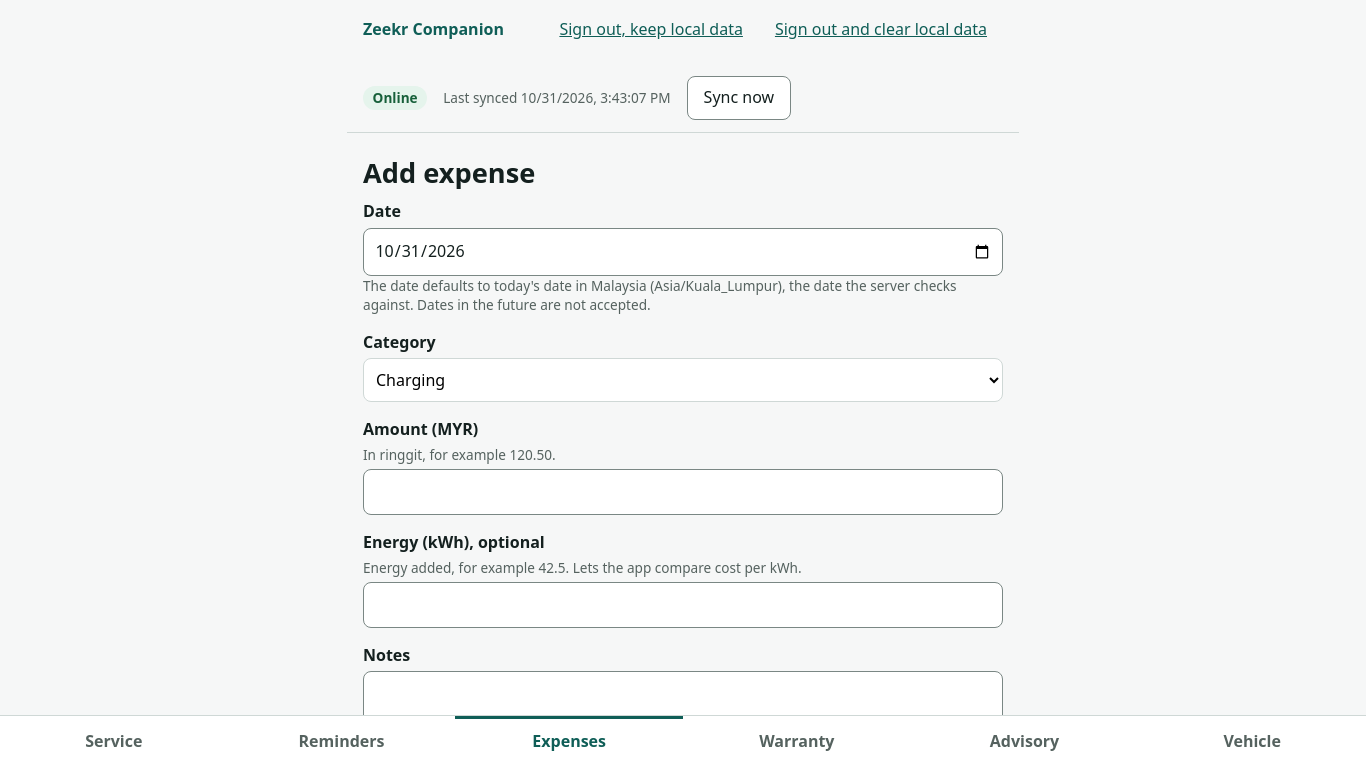
Scenario: QA save behaviour › a future date typed in the form is refused and nothing is queued
Type "2026-11-01" into the date field labelled "Date" at (683, 252), box [363,228,1003,276]
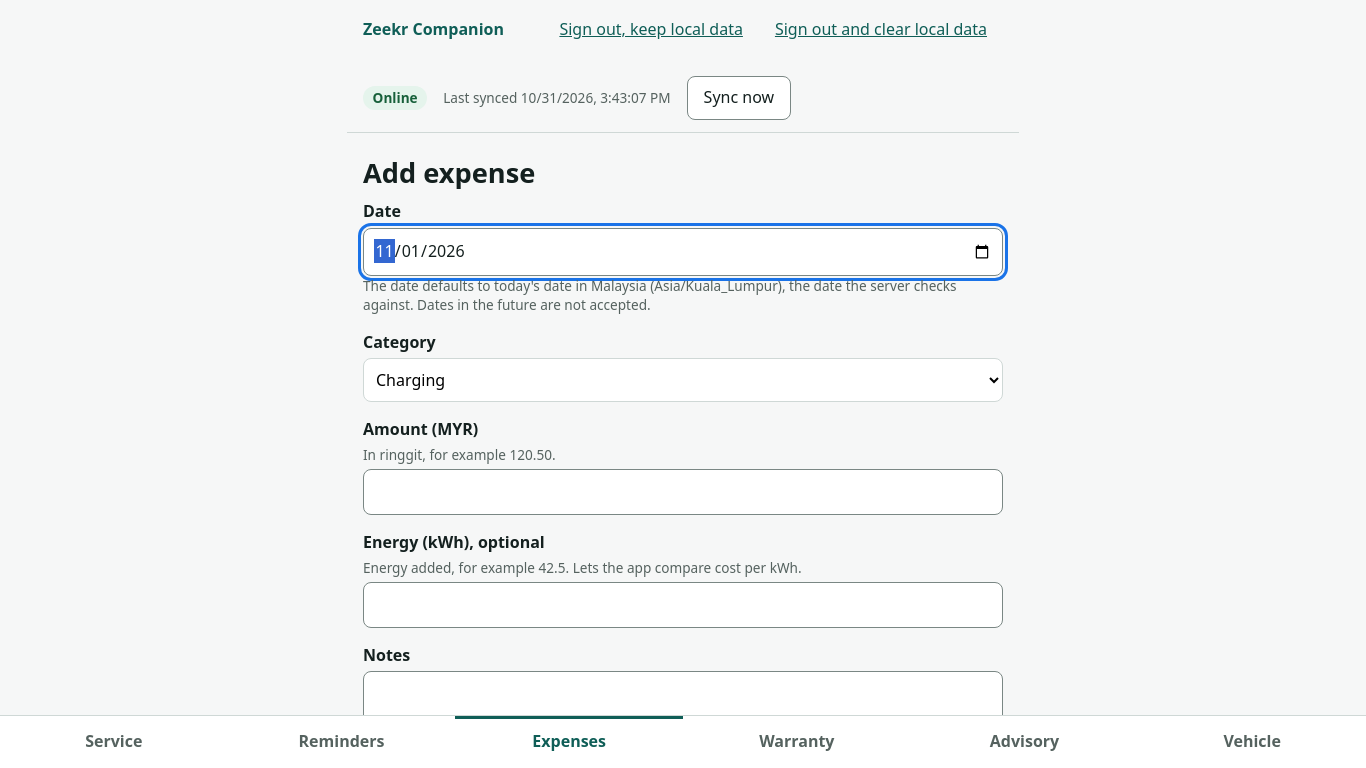
Type "1" into the field labelled "Amount (MYR)" at (683, 492), box [363,469,1003,515]
(page scrolled)
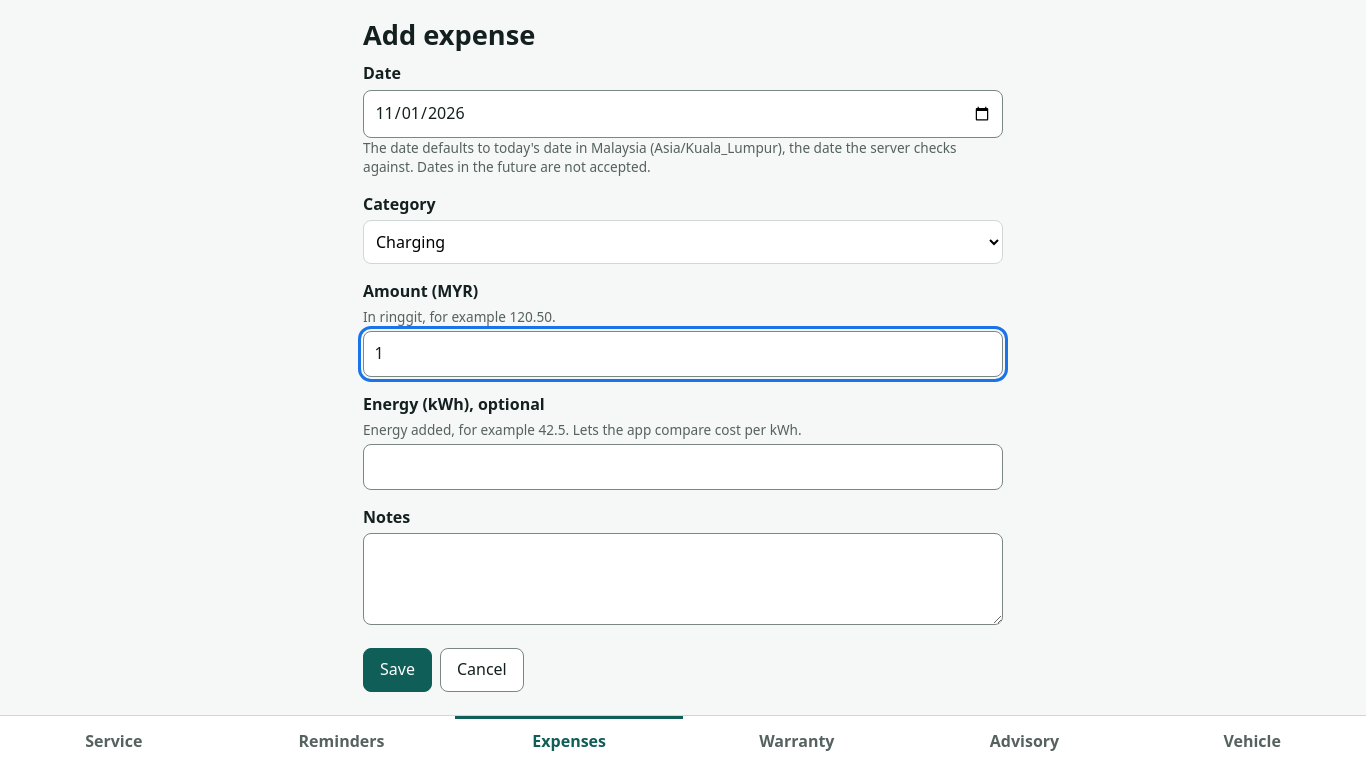
Click the button "Save" at (397, 670), box [363,648,432,692]
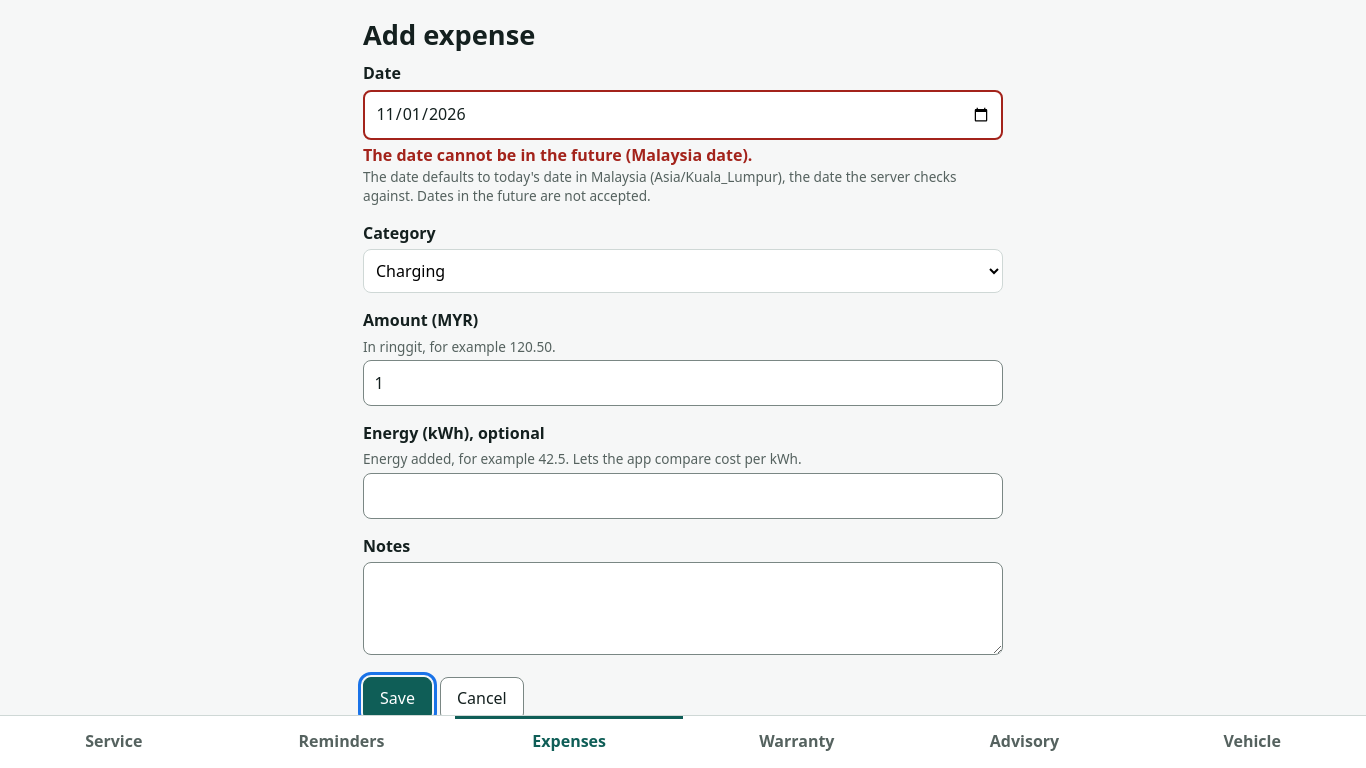
expect the text "The date cannot be in the future (Malaysia date)." is shown: met, box [363,144,752,166]
